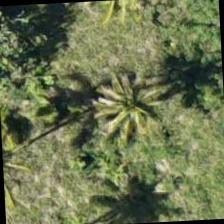Kelapa_Sawit: (60, 69, 156, 164)
